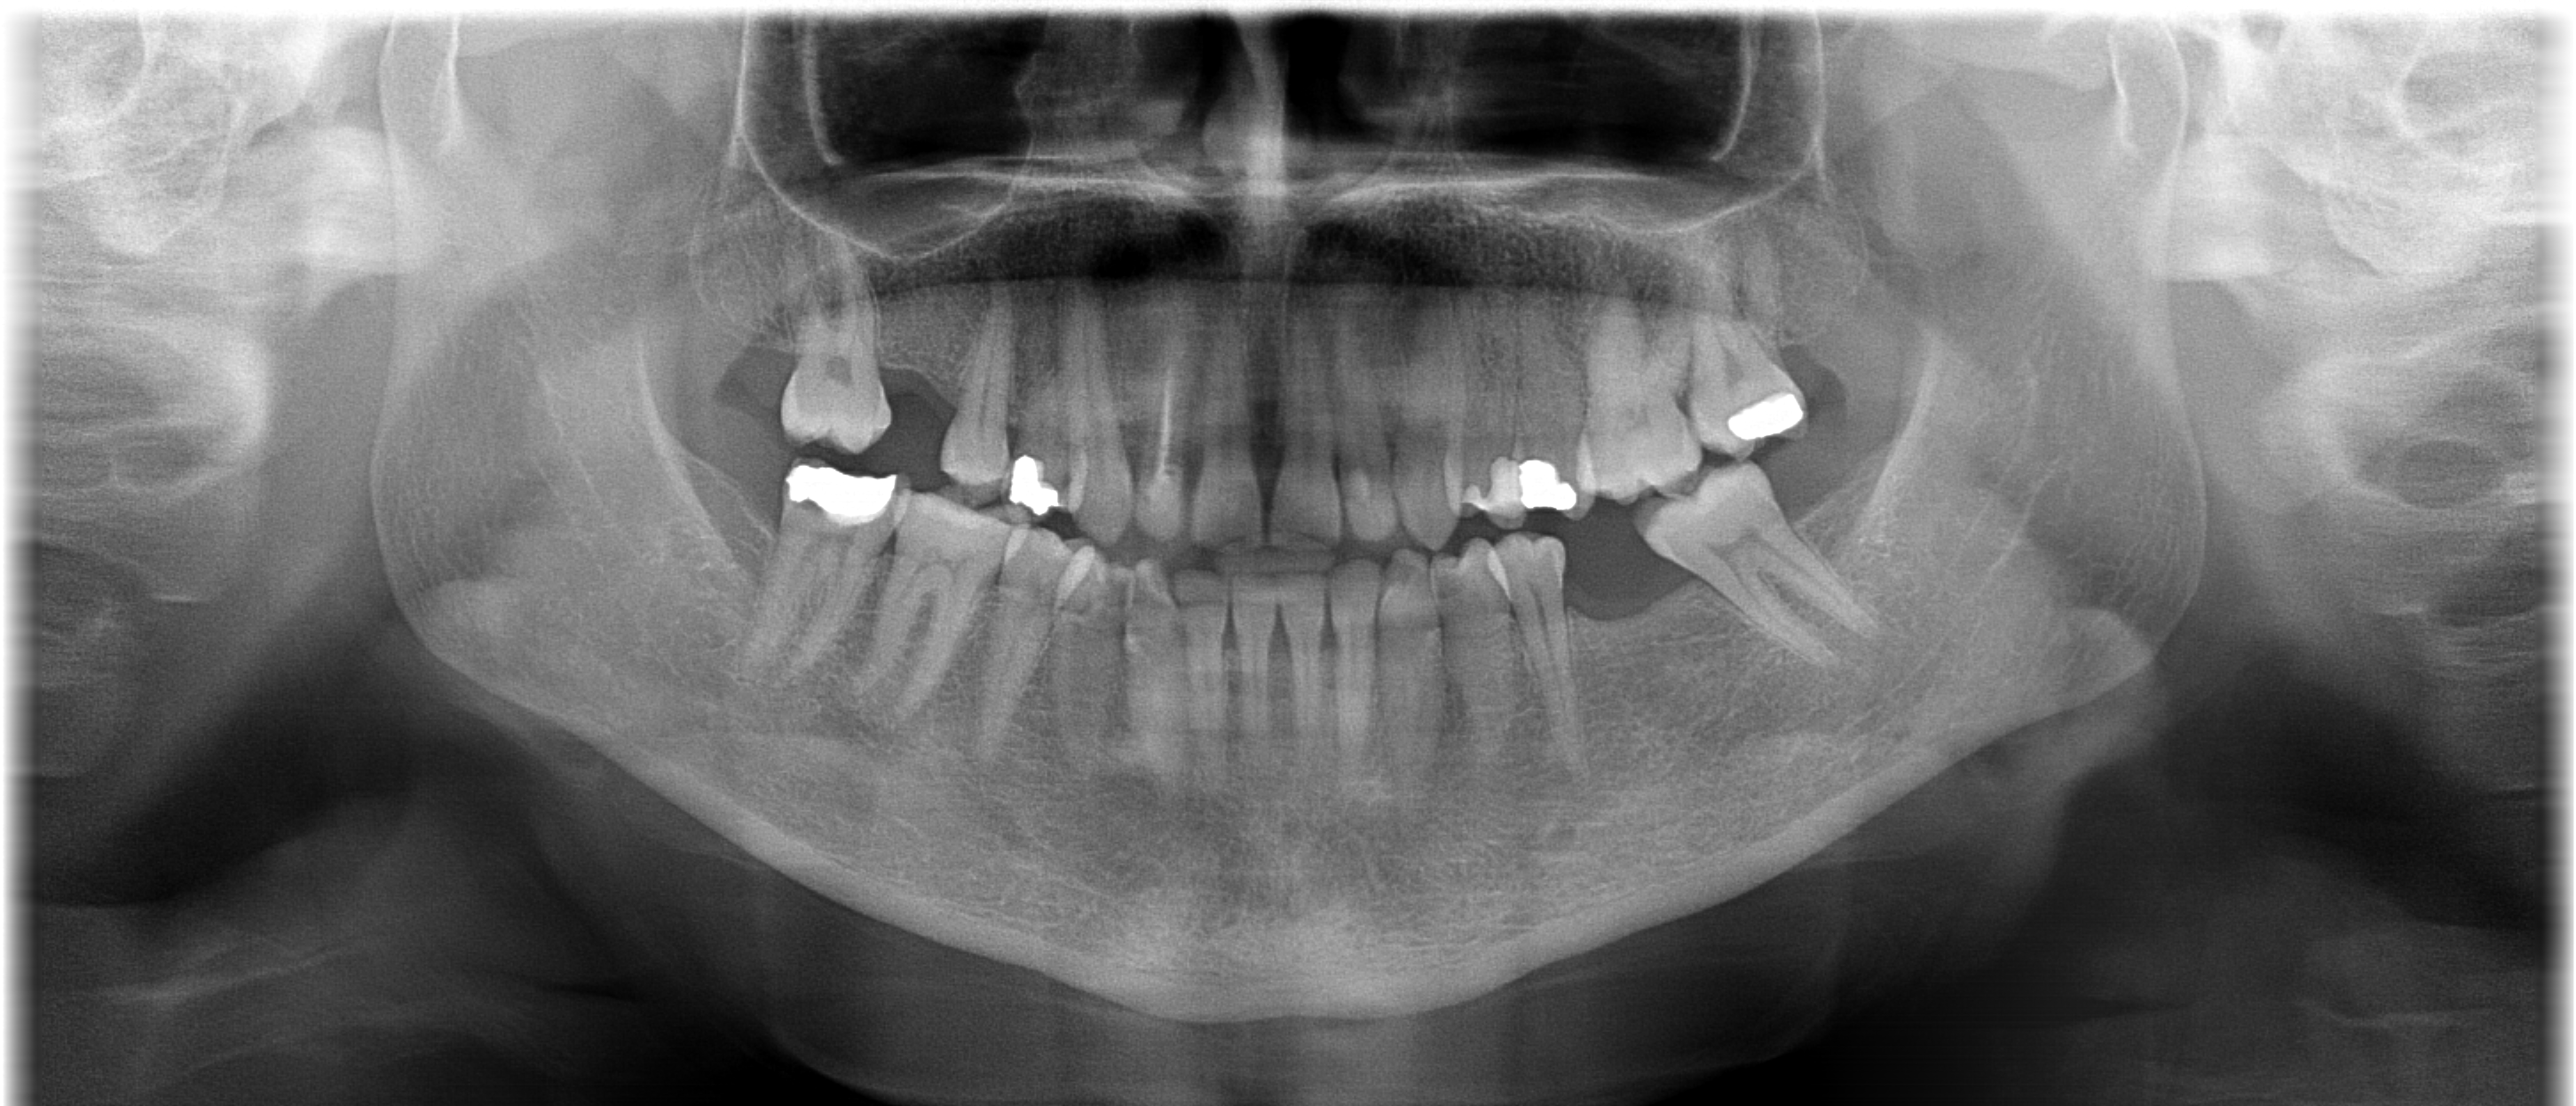apinamiento: (984, 546, 1237, 646)
zona_dentula: (1557, 528, 1738, 669)
